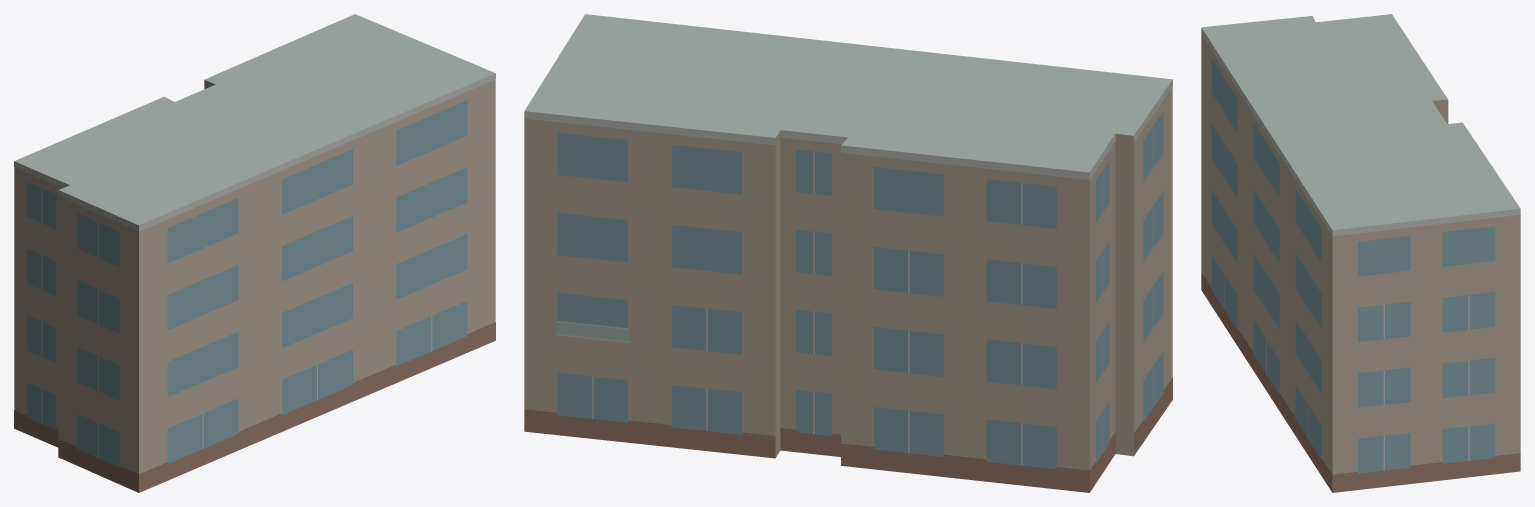
Rendered from survey-upis-32567818.glb.
The picture shows the model from 3 angles, left to right: view 1: azimuth 30°, elevation 25°; view 2: azimuth 150°, elevation 25°; view 3: azimuth 270°, elevation 25°; orthographic projection. The views are drawn at different scales.
Visible parts, largest first — view 1: survey-upis-32567818.tmp; view 2: survey-upis-32567818.tmp; view 3: survey-upis-32567818.tmp.
Boxes of the visible parts, x1=… form: survey-upis-32567818.tmp: x1=14, y1=14, x2=495, y2=492; survey-upis-32567818.tmp: x1=524, y1=14, x2=1172, y2=492; survey-upis-32567818.tmp: x1=1201, y1=14, x2=1520, y2=492.
Bounding box in the file's own units: 18.56 × 10.5 × 11.58.
